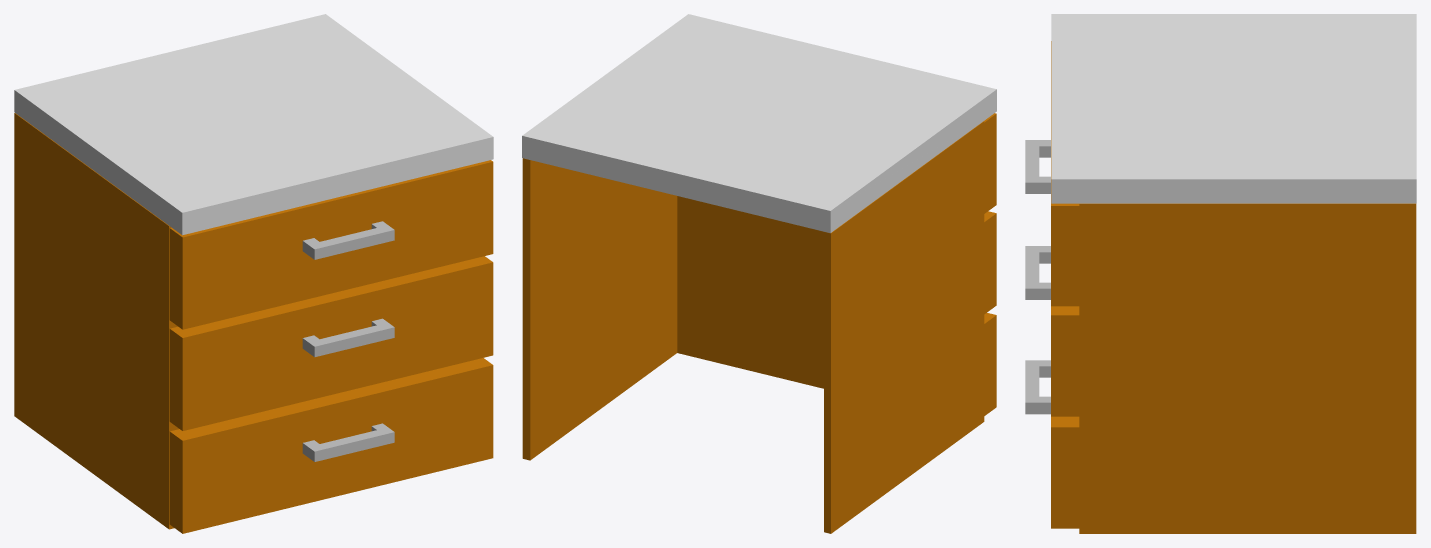
The model's file is sh-contrib-cassetti-cucina-45x60.glb.
3 renders of one model, left to right at view 1: azimuth 30°, elevation 25°; view 2: azimuth 150°, elevation 25°; view 3: azimuth 270°, elevation 25°, orthographic. The views are drawn at different scales.
Parts seen in each view (by area): view 1: Cube.002_Cube.002_WoodCherry, Cube_Cube.003_Material.002, Cube.002_Cube.002_Aluminum.001; view 2: Cube.002_Cube.002_WoodCherry, Cube_Cube.003_Material.002; view 3: Cube.002_Cube.002_WoodCherry, Cube_Cube.003_Material.002, Cube.002_Cube.002_Aluminum.001.
Boxes of the visible parts, box(x1,y1,x2,y2) form: Cube.002_Cube.002_WoodCherry: box(14, 113, 493, 533); Cube_Cube.003_Material.002: box(14, 14, 493, 235); Cube.002_Cube.002_Aluminum.001: box(302, 221, 394, 461); Cube.002_Cube.002_WoodCherry: box(522, 113, 996, 533); Cube_Cube.003_Material.002: box(522, 14, 996, 233); Cube.002_Cube.002_WoodCherry: box(1051, 41, 1416, 533); Cube_Cube.003_Material.002: box(1051, 14, 1416, 203); Cube.002_Cube.002_Aluminum.001: box(1025, 140, 1050, 414).
Bounding box in the file's own units: 1 × 1 × 1.
